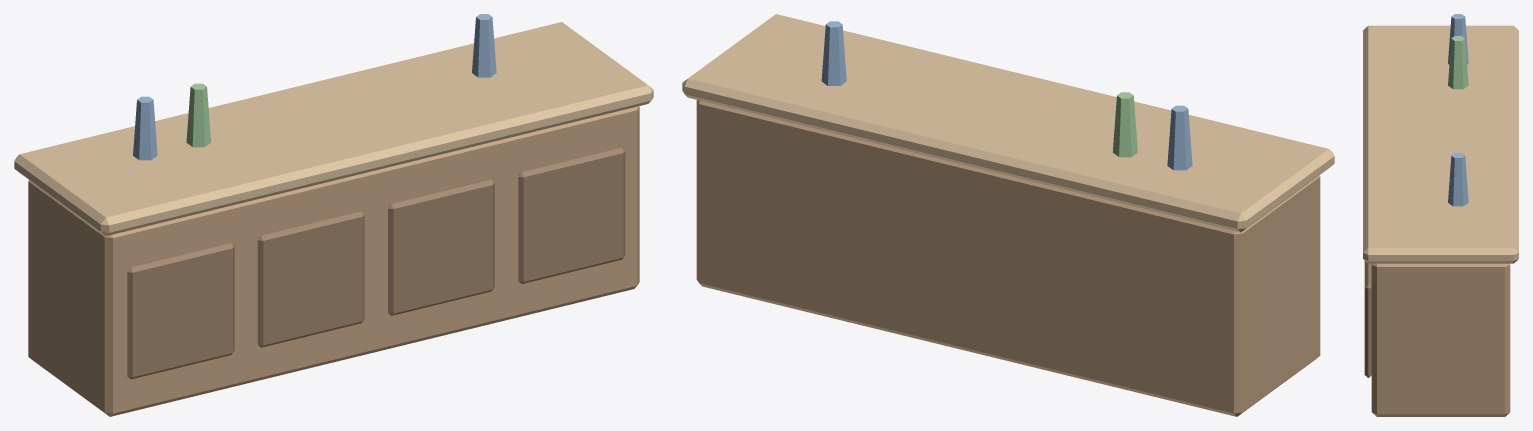
Rendered from prop_counter.glb.
The picture shows the model from 3 angles, left to right: view 1: azimuth 30°, elevation 25°; view 2: azimuth 150°, elevation 25°; view 3: azimuth 270°, elevation 25°; orthographic projection. The views are drawn at different scales.
Parts seen in each view (by area): view 1: prop_counter; view 2: prop_counter; view 3: prop_counter.
Part boxes in pixels (box(x1,y1,x2,y2)): prop_counter: box(14, 14, 653, 416); prop_counter: box(682, 14, 1334, 416); prop_counter: box(1363, 14, 1518, 416).
Bounding box in the file's own units: 3.1 × 1.4 × 0.9.
